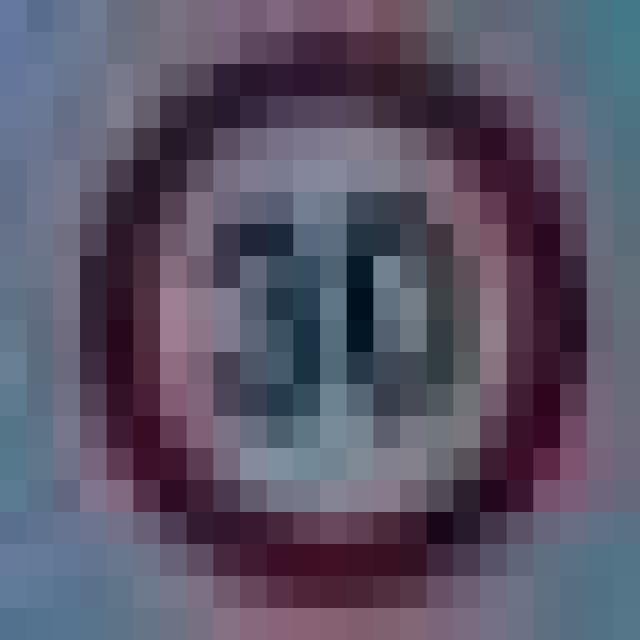speed_limit_30: (54, 0, 534, 576)
